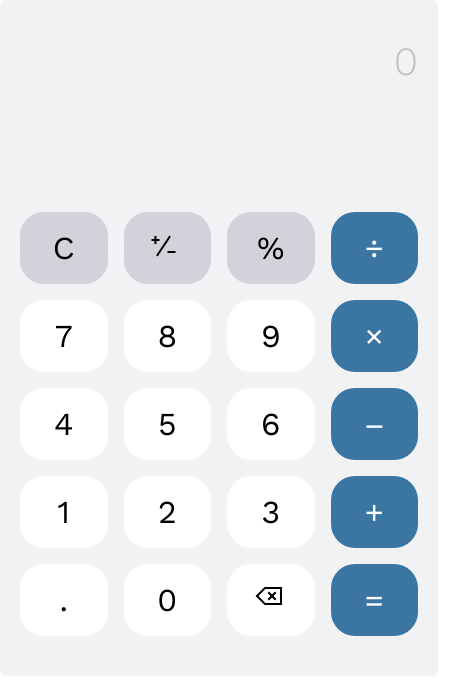
Test: Calculator Component › 5 handles operator precedence
Click the button "2" at (167, 512), box x1=124 y1=476 x2=211 y2=548
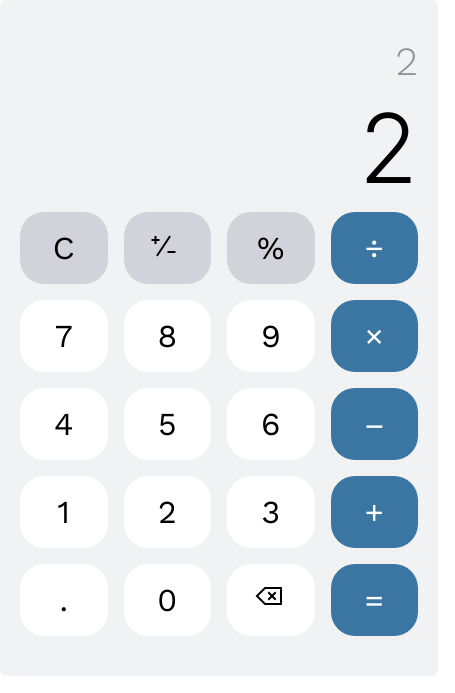
Click the button "+" at (374, 512), box x1=330 y1=476 x2=418 y2=548
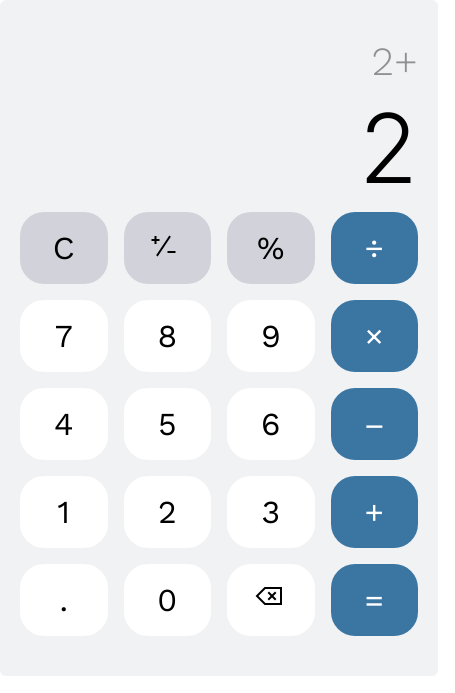
Click the button "3" at (271, 512), box x1=227 y1=476 x2=314 y2=548
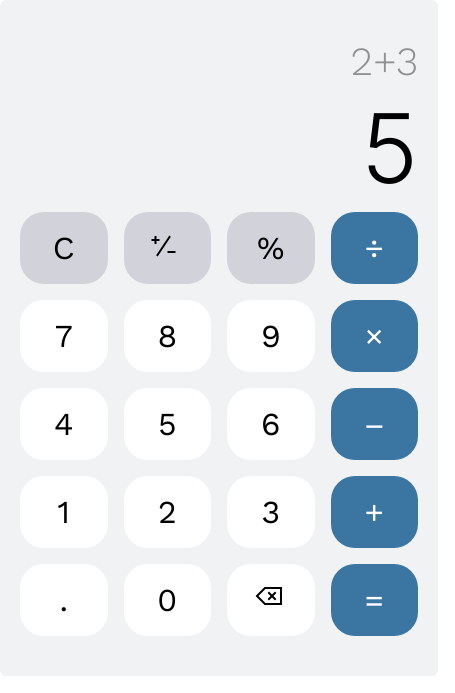
Click the button "×" at (374, 336), box x1=330 y1=300 x2=418 y2=372
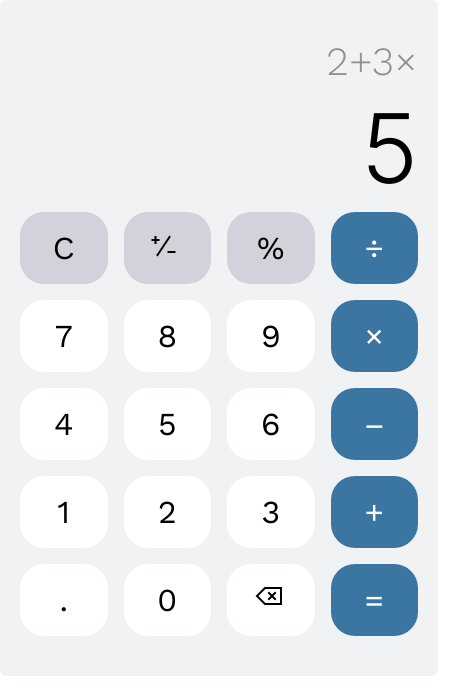
Click the button "4" at (64, 424), box x1=20 y1=388 x2=108 y2=460
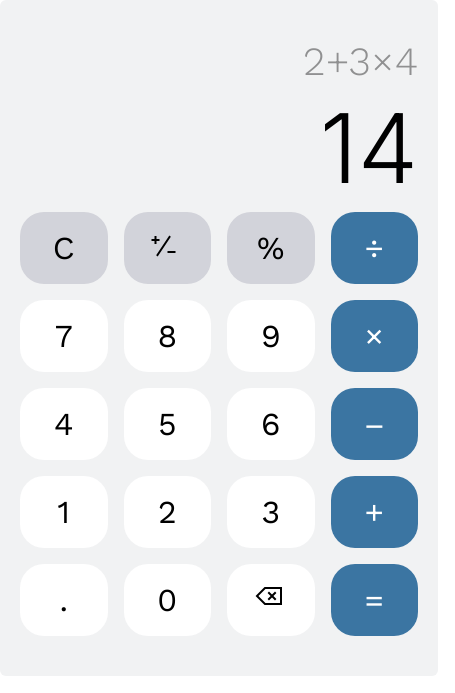
Click the button "=" at (374, 600), box x1=330 y1=564 x2=418 y2=636
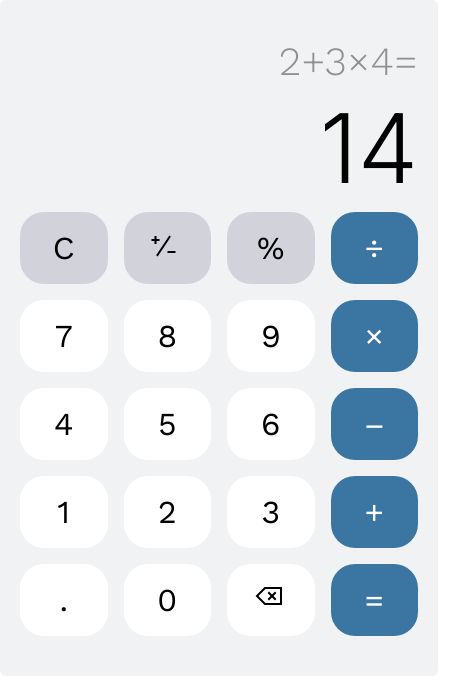
Check: the text "14" is shown, box x1=320 y1=90 x2=418 y2=206
Check: the field showing "2+3×4=" is shown, box x1=20 y1=40 x2=418 y2=84
